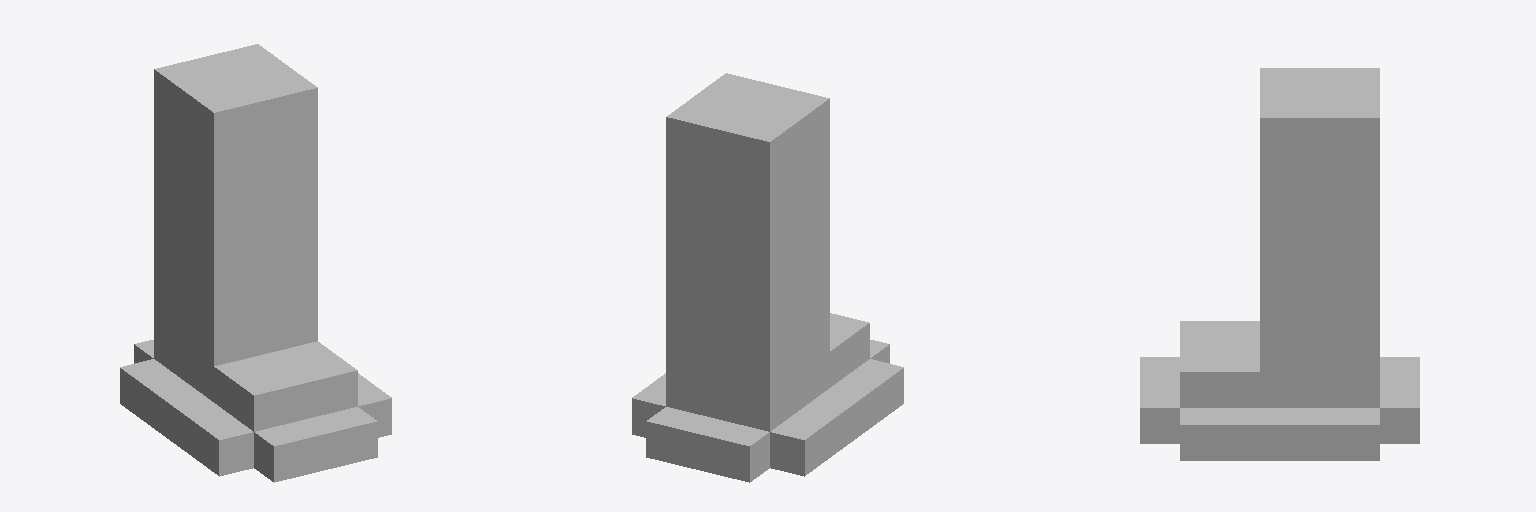
The model's file is BombPieDer.obj.
3 views of the same model, side by side, from view 1: azimuth 30°, elevation 25°; view 2: azimuth 150°, elevation 25°; view 3: azimuth 270°, elevation 25° (orthographic).
Parts seen in each view (by area): view 1: bomberman.003; view 2: bomberman.003; view 3: bomberman.003.
Boxes of the visible parts, box(x1,y1,x2,y2) form: bomberman.003: box(120, 44, 391, 482); bomberman.003: box(632, 73, 903, 482); bomberman.003: box(1140, 68, 1419, 460).
Size of the model in its own units: 0.5 by 0.9 by 0.7.